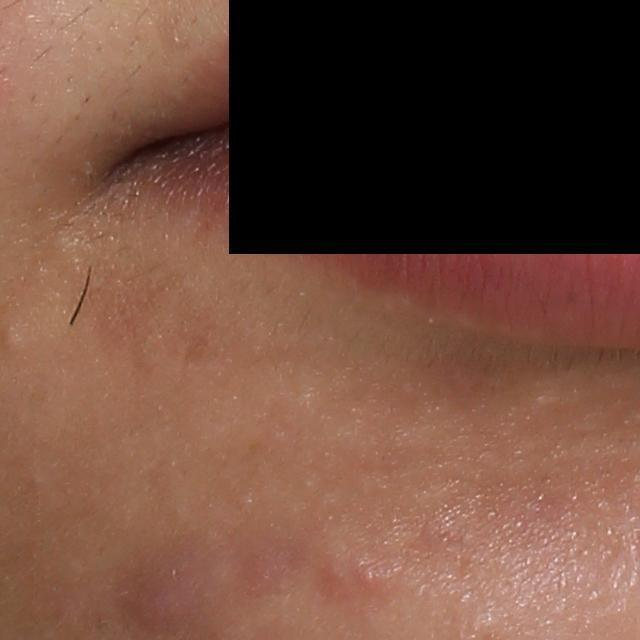comedo: (1, 318, 24, 352)
papule: (355, 552, 391, 592)
